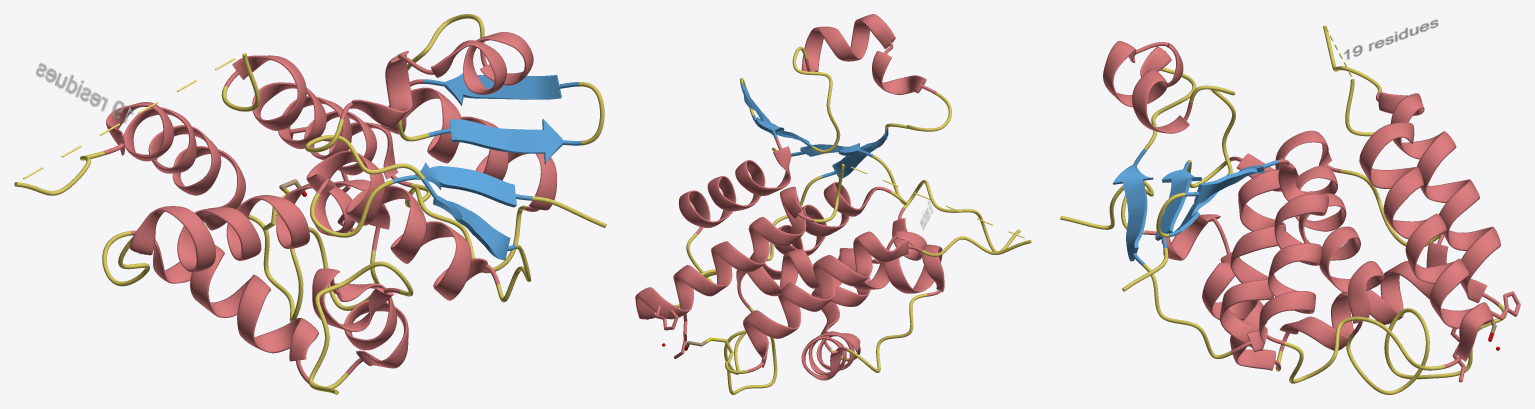
The picture shows the model from 3 angles, left to right: view 1: azimuth 30°, elevation 25°; view 2: azimuth 150°, elevation 25°; view 3: azimuth 270°, elevation 25°; orthographic projection. The views are drawn at different scales.
Parts seen in each view (by area): view 1: ribbons, labels, bonds; view 2: ribbons, bonds; view 3: ribbons, bonds, labels.
Part boxes in pixels (x1=…): ribbons: x1=14, y1=14, x2=606, y2=394; labels: x1=36, y1=63, x2=133, y2=123; bonds: x1=263, y1=127, x2=354, y2=231; ribbons: x1=635, y1=14, x2=1031, y2=394; bonds: x1=655, y1=305, x2=733, y2=363; ribbons: x1=1060, y1=25, x2=1506, y2=394; bonds: x1=1451, y1=291, x2=1520, y2=380; labels: x1=1344, y1=19, x2=1438, y2=59.
Bounding box in the file's own units: 50.25 × 37.75 × 45.23.
3 materials, 1 textured.
